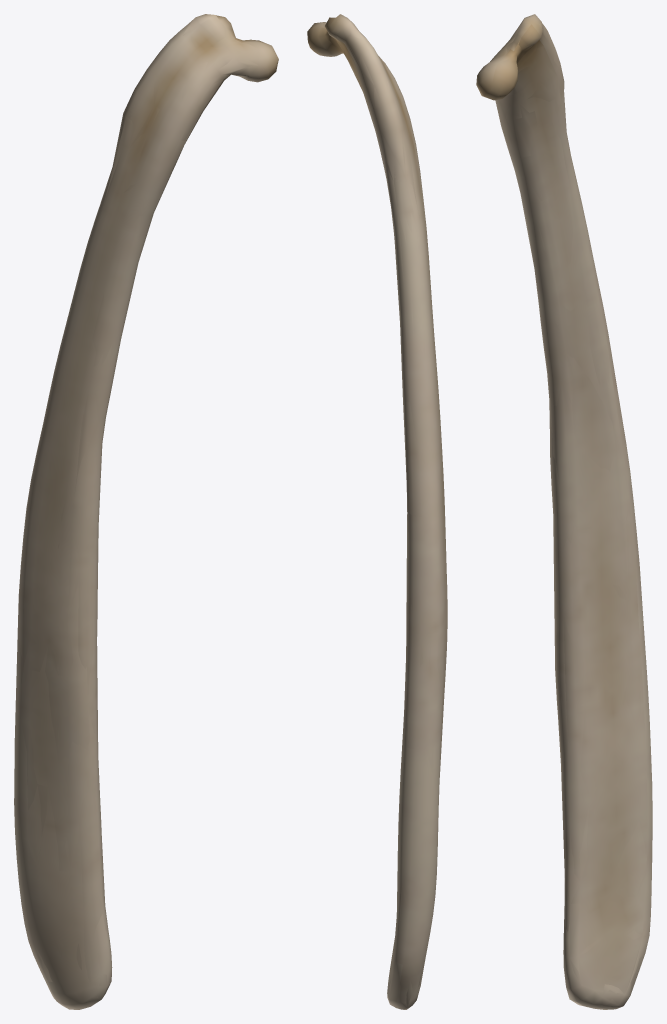
File: Rib R03.fbx
3 views of the same model, side by side, from view 1: azimuth 30°, elevation 25°; view 2: azimuth 150°, elevation 25°; view 3: azimuth 270°, elevation 25° (orthographic). The views are drawn at different scales.
Visible parts, largest first — view 1: Rib R03, Rib R03 low; view 2: Rib R03, Rib R03 low; view 3: Rib R03 low, Rib R03.
Part boxes in pixels (box(x1,y1,x2,y2)): Rib R03: box(14, 14, 278, 1009); Rib R03 low: box(14, 14, 274, 1009); Rib R03: box(307, 14, 447, 1009); Rib R03 low: box(307, 15, 446, 1008); Rib R03 low: box(478, 14, 652, 1009); Rib R03: box(476, 14, 652, 1009).
Bounding box in the file's own units: 8.21 × 39.54 × 6.05.
Materials: 1 (1 with a texture image).
